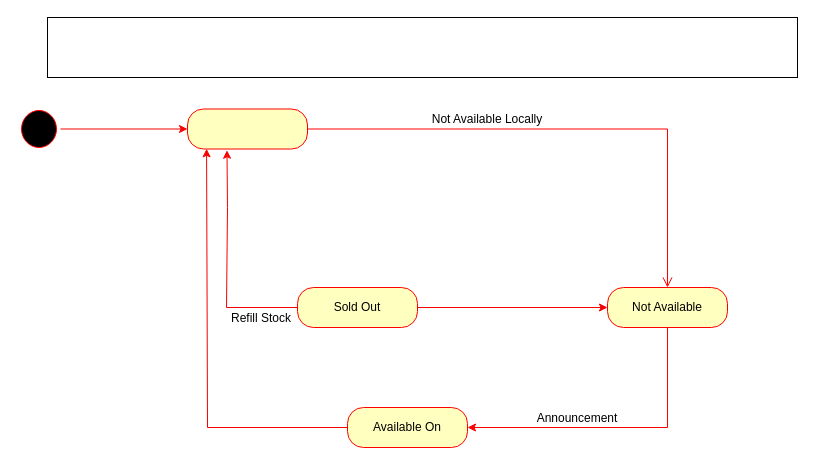
The diagram is 815 pixels wide and 465 high, and some of its shapes have lost their labels. The shapes that lost their labels are listed below. From the top down, each one's box as (x1, y1, x2, y2) in pixels, then its label:
(46, 16, 798, 78): Product Availability State Diagram
(186, 108, 308, 149): Available
